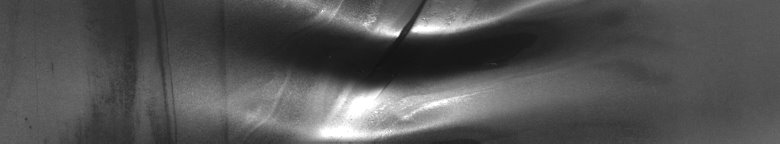ke: (321, 4, 539, 136)
